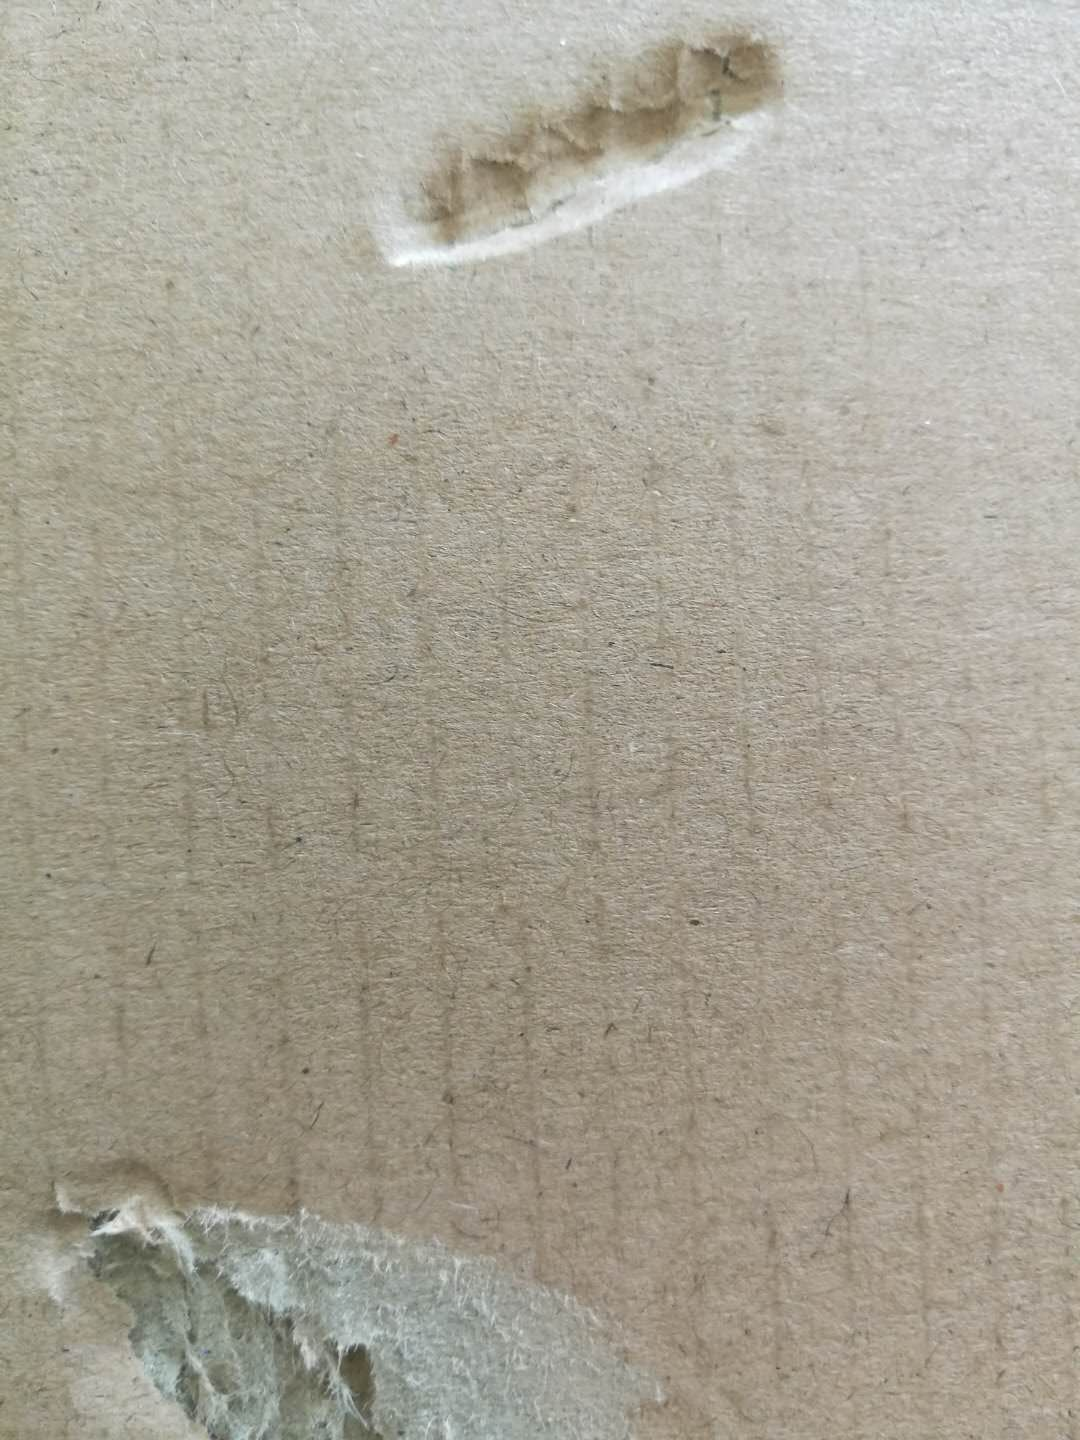defect: (3, 1125, 716, 1440), (331, 1, 828, 296)
